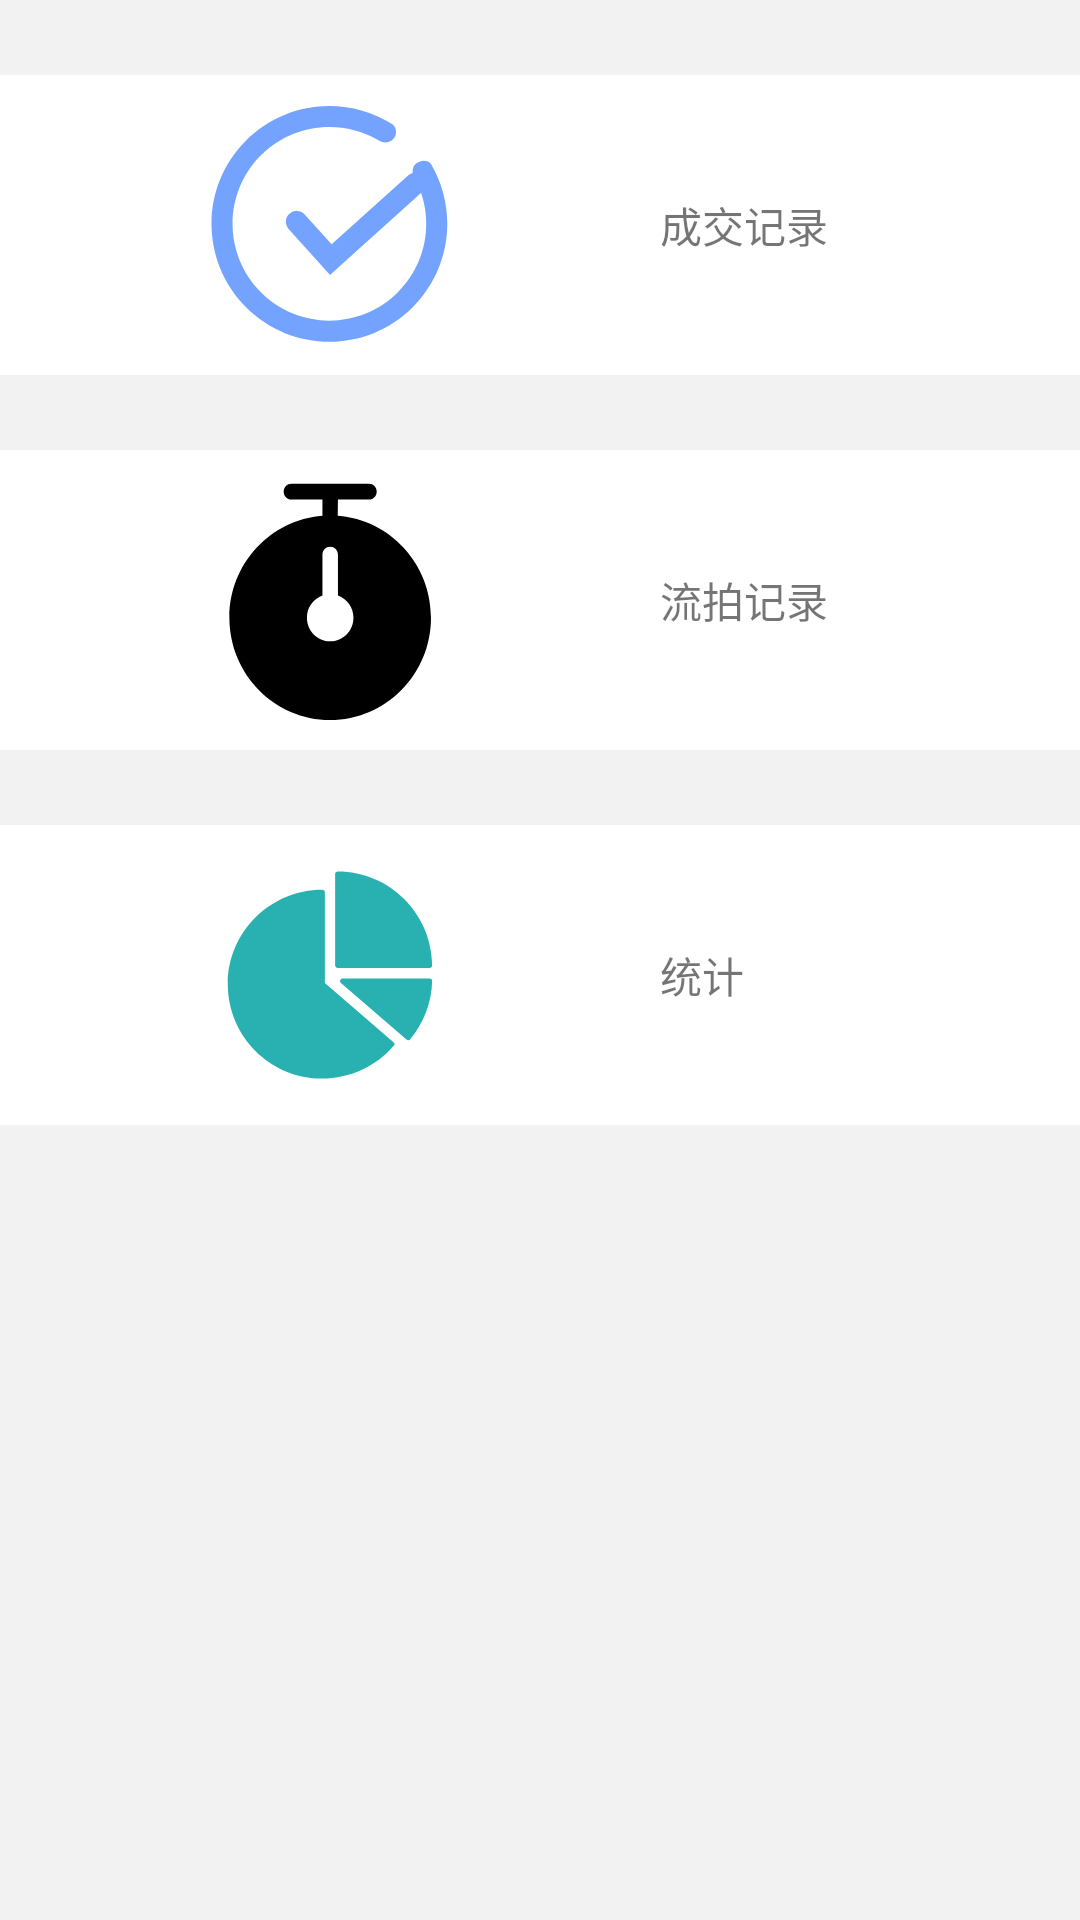

Icon bounding boxes for this 1080px×1920px phone screenshot, format (x1,y1,x2,y2):
statistics: (227,871,433,1079)
success: (211,106,448,342)
